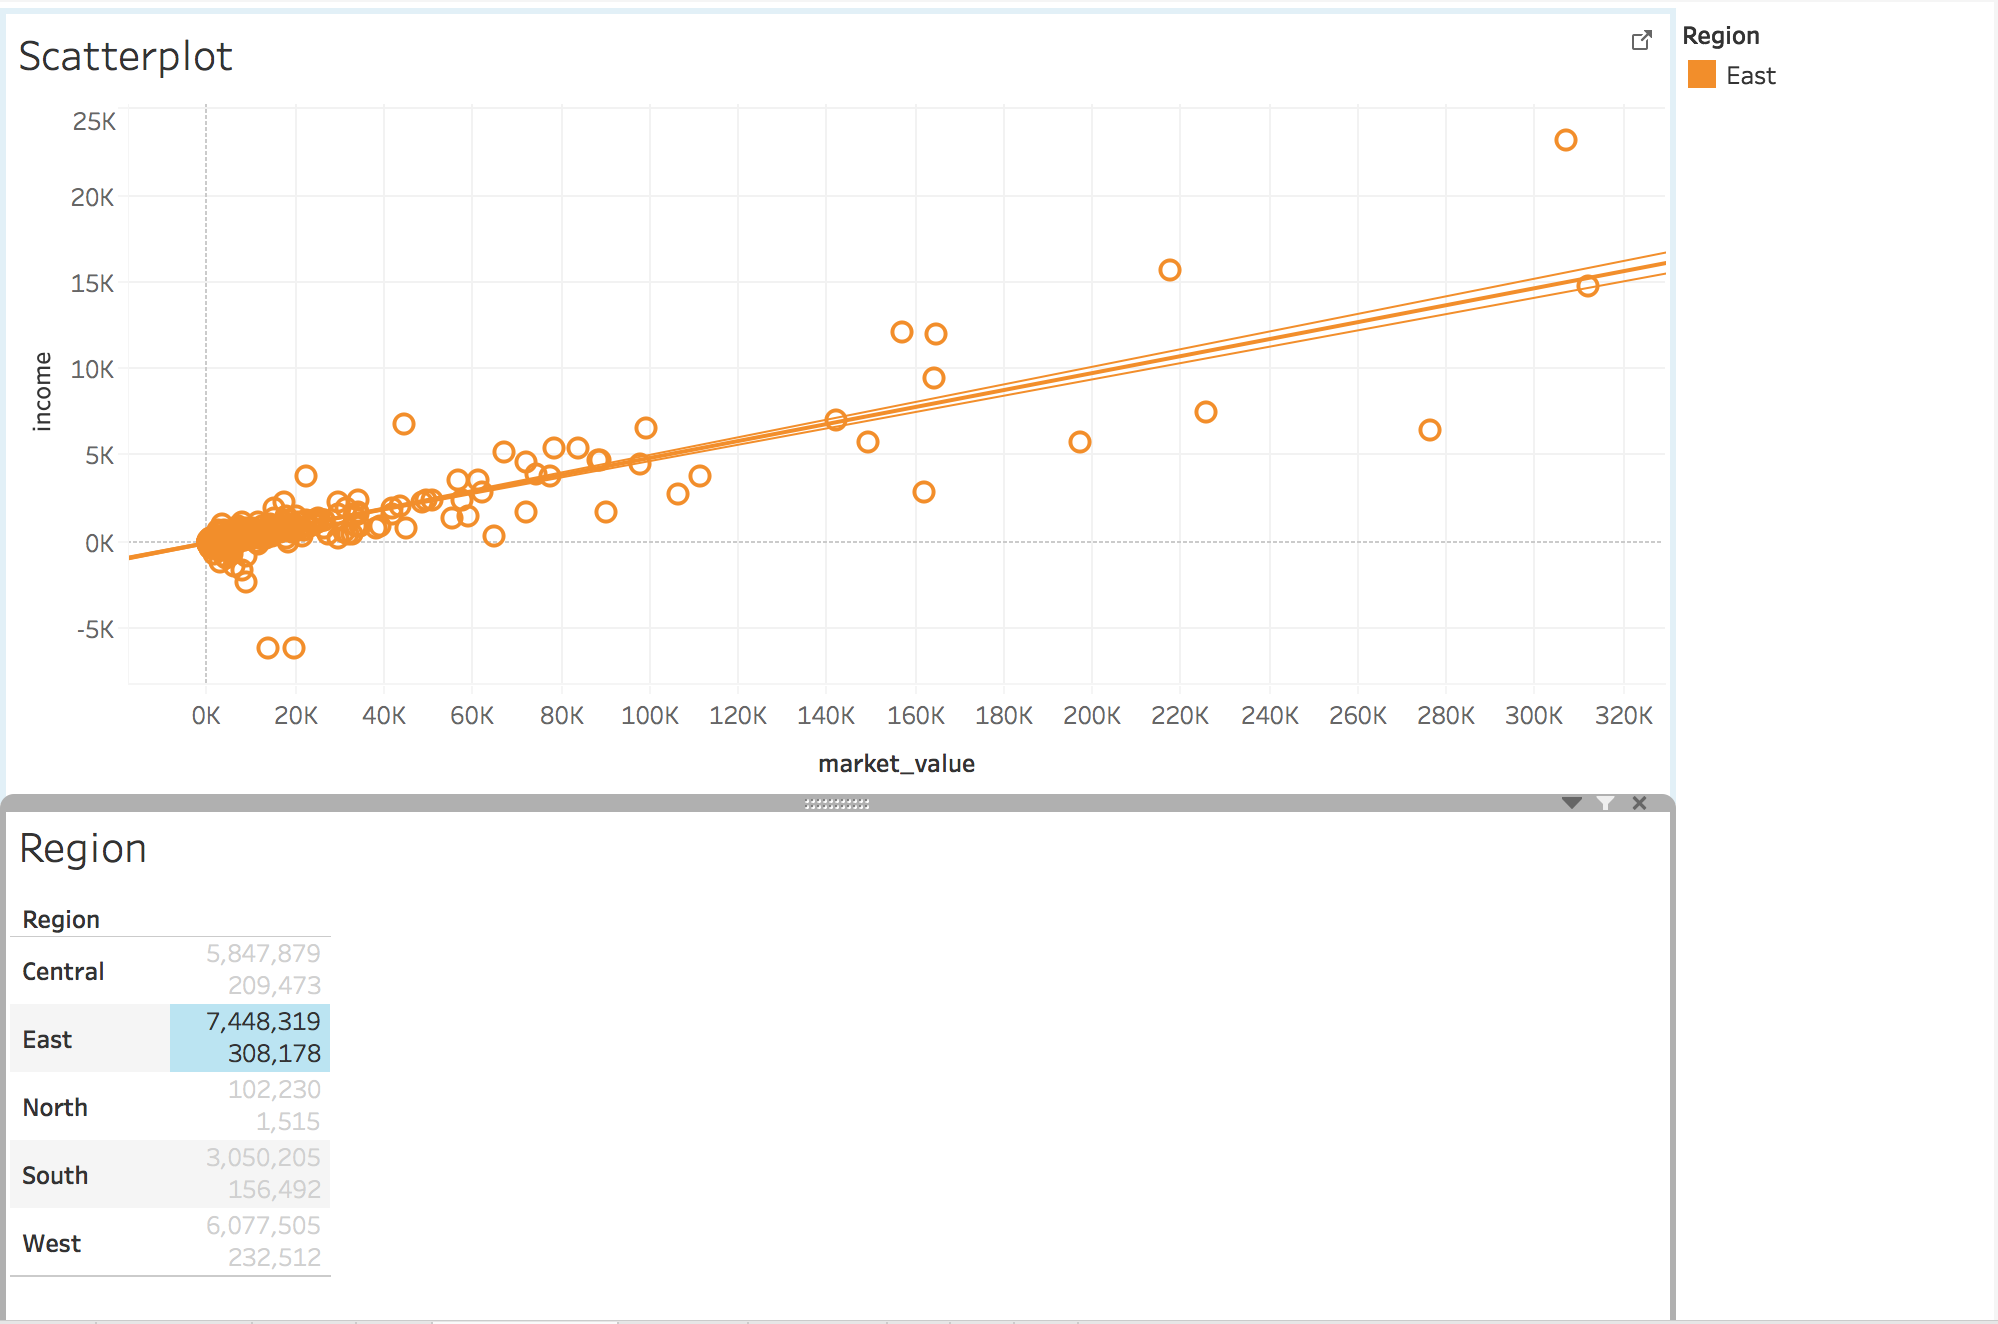

What the dashboard file says about the page in this screenshot:
{"tool":"tableau","page":{"name":"Dashboard","canvas":[1000,800],"ordinal":0},"visuals":[{"type":"worksheet","title":"Scatterplot","mark":"Automatic","rows":["v_8"],"cols":["v_14"],"box":[0,0,840,400]},{"type":"legend","title":"Scatterplot","param":"[federated.09xwelj0bzqzvf1bfoy841itga37].[none:v_0 (Region):nk]","box":[840,0,160,50]},{"type":"worksheet","title":"Region","mark":"Automatic","rows":["v_0 (Region)"],"box":[0,400,840,400]}]}

Visuals, with their boxes on the page's 1000x800 design canvas (x1, y1, x2, y2). These are canvas units, not pixel positions in the 1998x1324 screenshot, which may show the page scaled, cropped or inside an application window:
"Scatterplot" worksheet: <box>0,0,840,400</box>
"Scatterplot" legend: <box>840,0,1000,50</box>
"Region" worksheet: <box>0,400,840,800</box>
